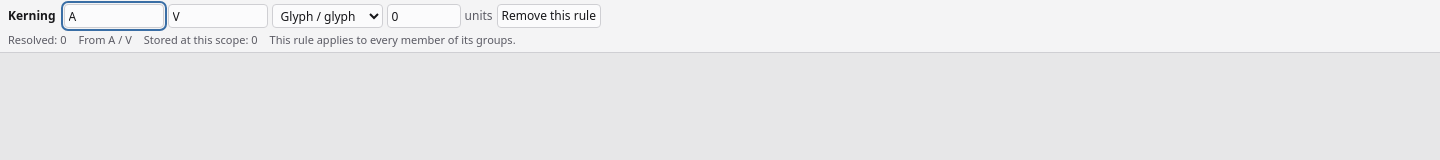
TextKerningPanel › cancels glyph-name Escape without committing the blur draft
The width and height of the screenshot is (1440, 160).
Replace the text in the field with test id "text-kerning-first" with "T". click: {"x": 114, "y": 16}
box: [64,4,164,28]
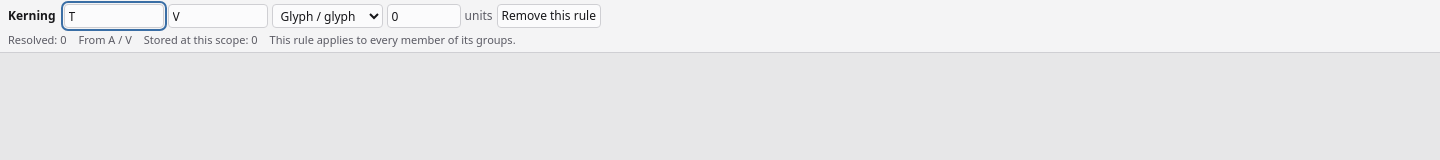
Press Escape in the field with test id "text-kerning-first", box [64,4,164,28]
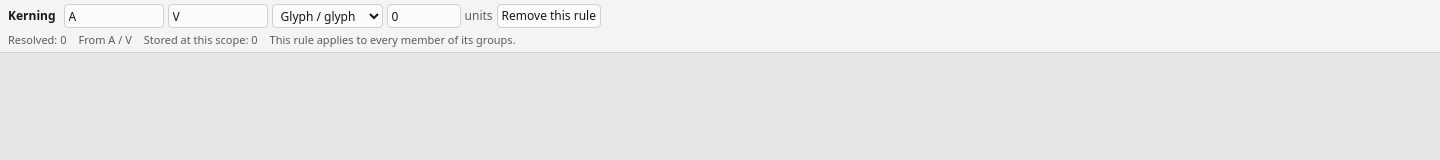
Result: the field with test id "text-kerning-first" holds "A" at [64,4,164,28]
